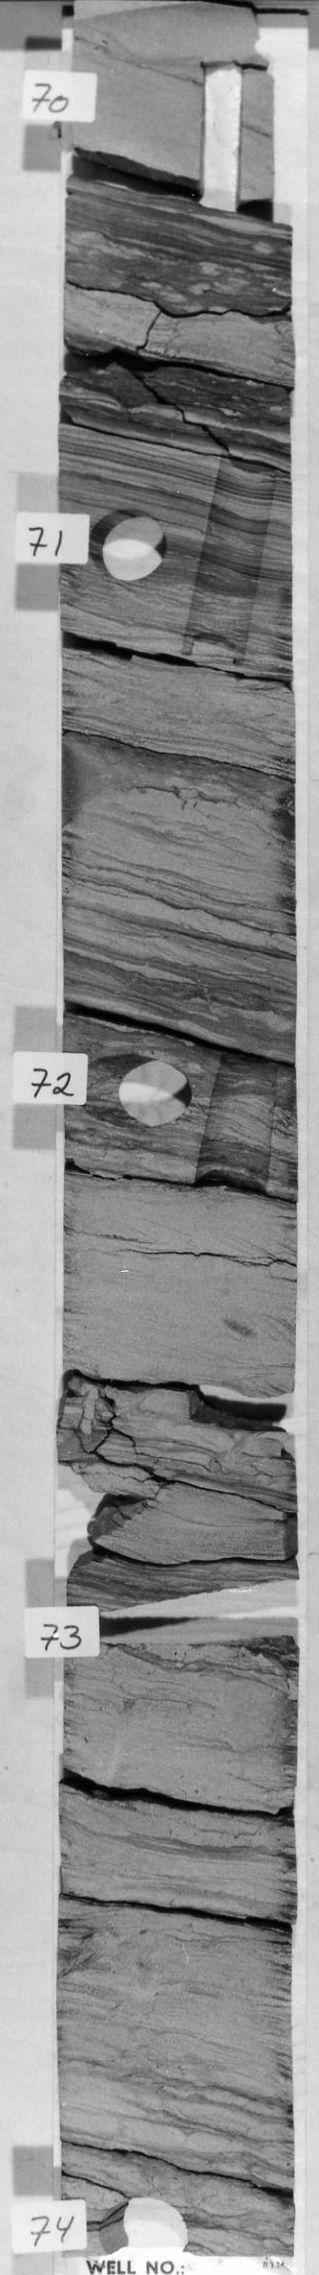hplug: (75, 1049, 191, 1132), (83, 2181, 202, 2259), (88, 502, 175, 592)
vplug: (181, 454, 277, 670), (190, 1040, 278, 1198), (186, 55, 252, 210)
